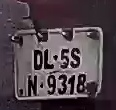1: (68, 74, 76, 97)
3: (58, 74, 68, 98)
5: (59, 48, 71, 72)
8: (76, 73, 87, 96)
9: (45, 76, 56, 96)
D: (31, 50, 44, 73)
L: (42, 50, 56, 72)
N: (24, 73, 41, 98)
S: (68, 48, 82, 70)
